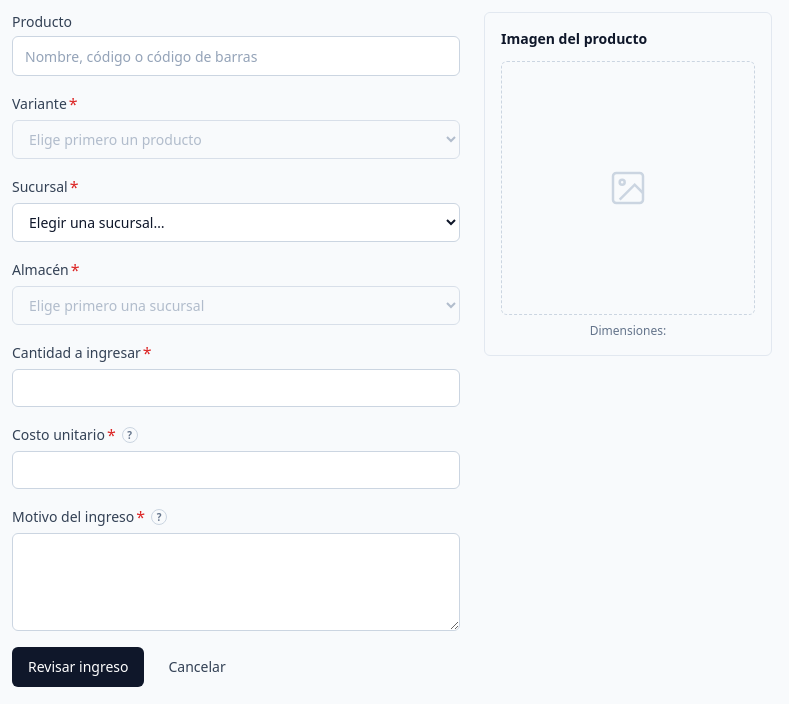
Test: AddStockForm › uses a search bar for the product (no dropdown) and searches the server with q
The width and height of the screenshot is (789, 704).
In the search field named "Buscar producto": (236, 56) top-left (12, 36), bottom-right (460, 76), type "silla"
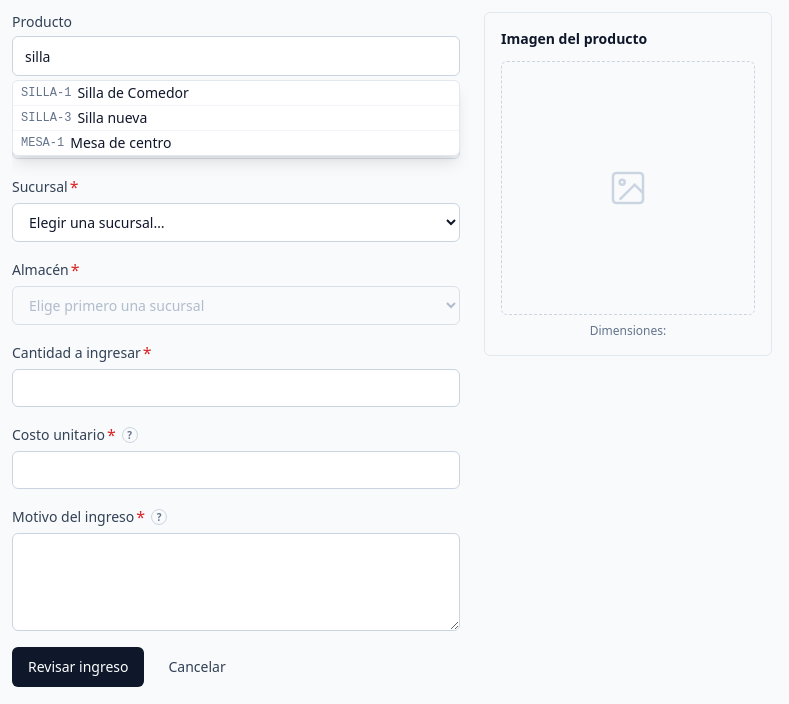
Expected: the option "SILLA-1 Silla de Comedor" is shown, top-left (13, 81), bottom-right (459, 105)
